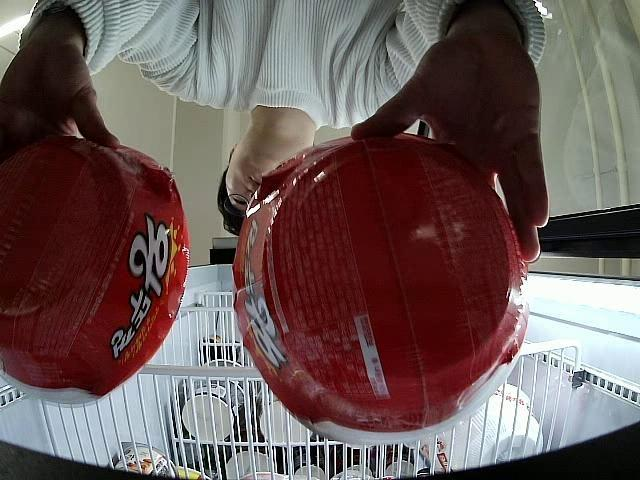10_wangTtukkeong: (232, 134, 530, 444), (0, 136, 188, 408)
